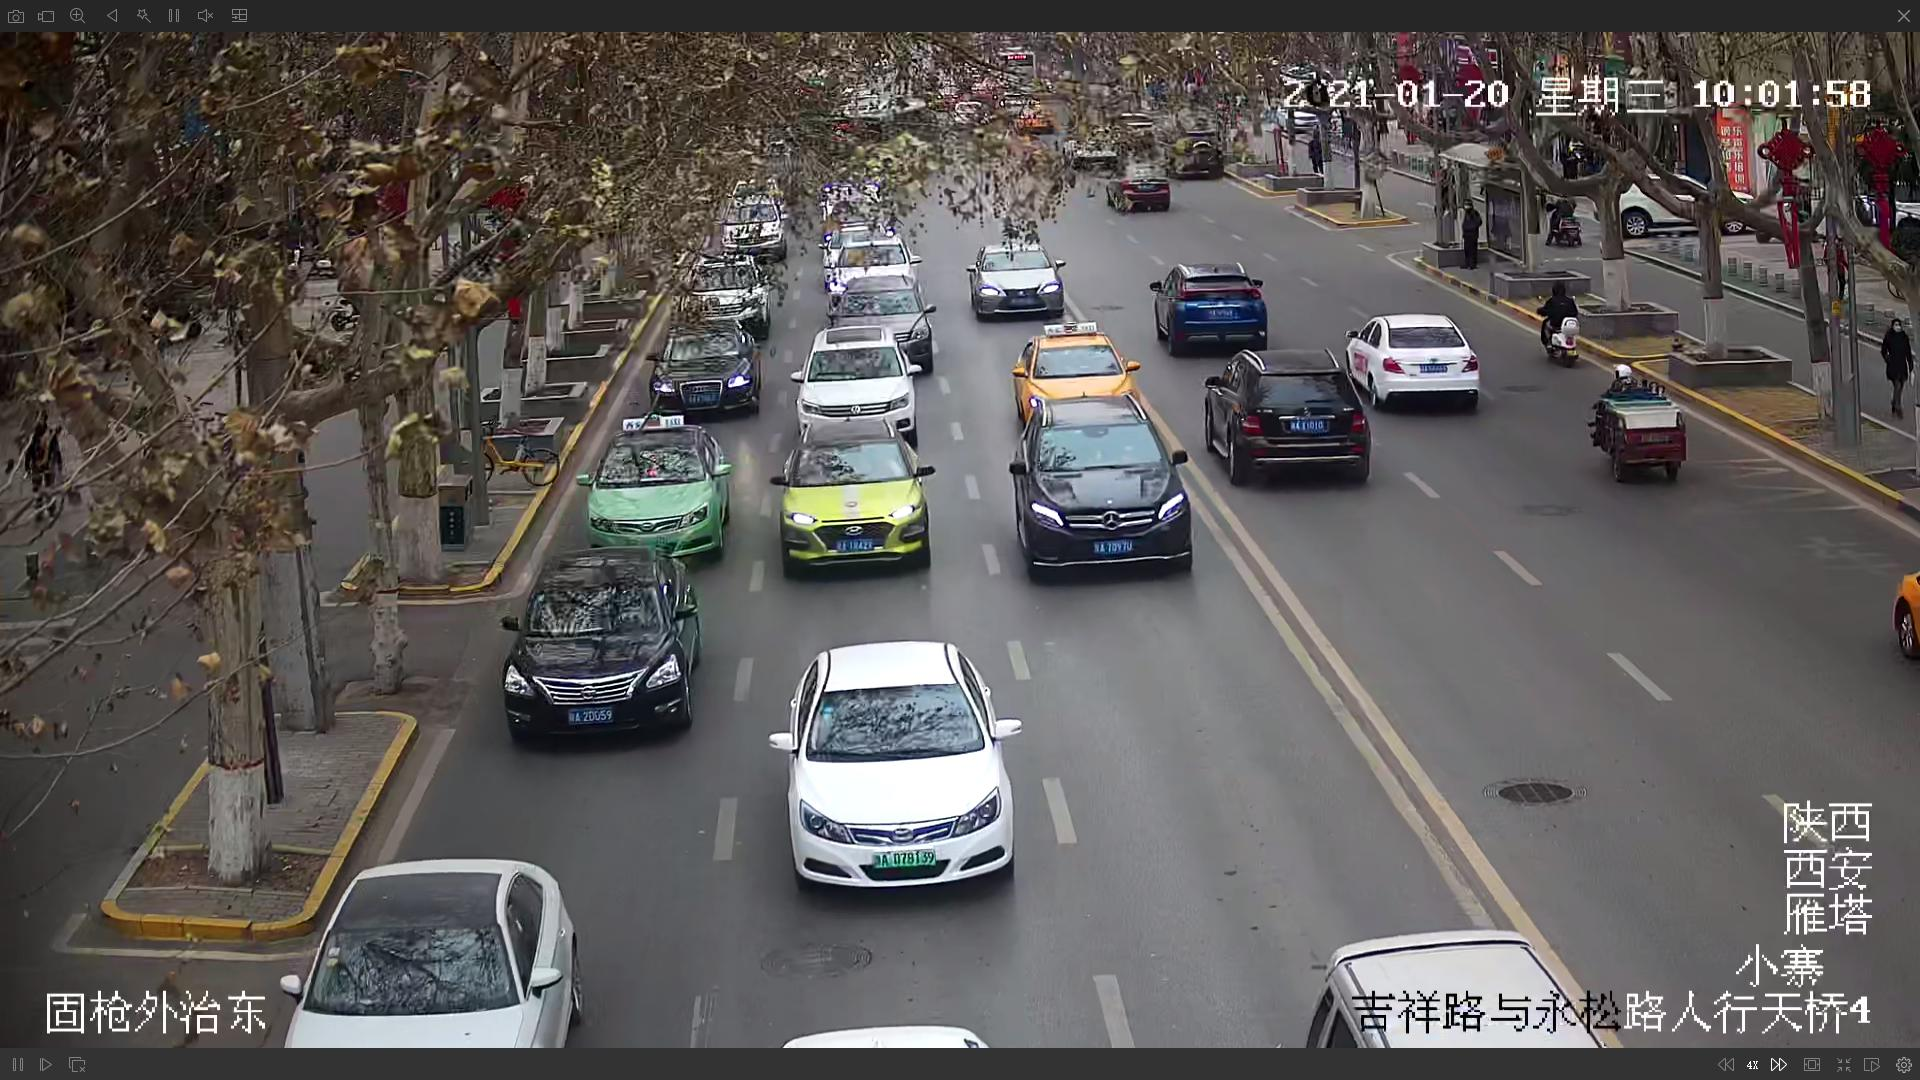black: (493, 553, 700, 742), (1014, 389, 1188, 566)
white: (771, 640, 1023, 890)
